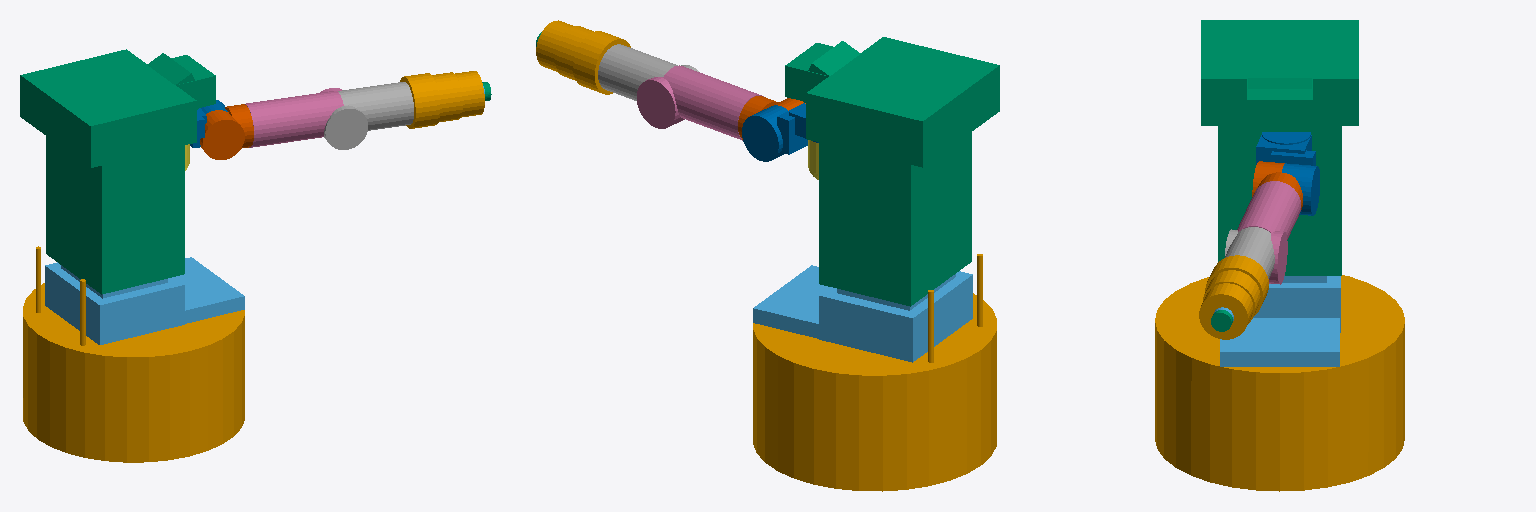
URDF robot description (TIAGo Steel):
<?xml version="1.0"?>
<robot name="TIAGo Steel" xmlns:xacro="http://ros.org/wiki/xacro">
  <link name="base_link">
    <visual>
      <origin xyz="0 0 0.06" rpy="3.1407962 0 0"/>
      <geometry>
        <cylinder radius="0.265" length="0.276"/>
      </geometry>
    </visual>
    <collision>
      <origin xyz="0 0 0.06" rpy="3.1407962 0 0"/>
      <geometry>
        <cylinder radius="0.265" length="0.276"/>
      </geometry>
    </collision>
    <visual>
      <origin xyz="-0.201 0.1062 0.28" rpy="3.1407962 0 0"/>
      <geometry>
        <cylinder radius="0.007" length="0.173"/>
      </geometry>
    </visual>
    <collision>
      <origin xyz="-0.201 0.1062 0.28" rpy="3.1407962 0 0"/>
      <geometry>
        <cylinder radius="0.007" length="0.173"/>
      </geometry>
    </collision>
    <visual>
      <origin xyz="-0.201 -0.1062 0.28" rpy="3.1407962 0 0"/>
      <geometry>
        <cylinder radius="0.007" length="0.173"/>
      </geometry>
    </visual>
    <collision>
      <origin xyz="-0.201 -0.1062 0.28" rpy="3.1407962 0 0"/>
      <geometry>
        <cylinder radius="0.007" length="0.173"/>
      </geometry>
    </collision>
  </link>
  <link name="Torso">
    <visual>
      <origin xyz="0 0 0.275" rpy="0 0 0"/>
      <geometry>
        <box size="0.18 0.2 0.55"/>
      </geometry>
    </visual>
    <collision>
      <origin xyz="0 0 0.275" rpy="0 0 0"/>
      <geometry>
        <box size="0.18 0.2 0.55"/>
      </geometry>
    </collision>
    <visual>
      <origin xyz="0.085 0 0.02" rpy="0 0 0"/>
      <geometry>
        <box size="0.4 0.254 0.04"/>
      </geometry>
    </visual>
    <collision>
      <origin xyz="0.085 0 0.02" rpy="0 0 0"/>
      <geometry>
        <box size="0.4 0.254 0.04"/>
      </geometry>
    </collision>
    <visual>
      <origin xyz="0.001 0 0.05" rpy="0 0 0"/>
      <geometry>
        <box size="0.233 0.26 0.12"/>
      </geometry>
    </visual>
    <collision>
      <origin xyz="0.001 0 0.05" rpy="0 0 0"/>
      <geometry>
        <box size="0.233 0.26 0.12"/>
      </geometry>
    </collision>
  </link>
  <joint name="base_link_Torso_joint" type="fixed">
    <parent link="base_link"/>
    <child link="Torso"/>
    <origin xyz="-0.054 0 0.193" rpy="0 0 0"/>
  </joint>
  <joint name="torso_lift_joint" type="prismatic">
    <parent link="Torso"/>
    <child link="torso_lift_link"/>
    <axis xyz="0 0 1"/>
    <origin xyz="0 0 0.6" rpy="0 0 0"/>
    <limit effort="2000" lower="0" upper="0.35" velocity="0.07"/>
  </joint>
  <link name="torso_lift_link">
    <visual>
      <origin xyz="0.164 0 -0.032" rpy="0 0 0"/>
      <geometry>
        <box size="0.15 0.138 0.074"/>
      </geometry>
    </visual>
    <collision>
      <origin xyz="0.164 0 -0.032" rpy="0 0 0"/>
      <geometry>
        <box size="0.15 0.138 0.074"/>
      </geometry>
    </collision>
    <visual>
      <origin xyz="0.1389 0 -0.0432" rpy="0 -0.43 0"/>
      <geometry>
        <box size="0.12 0.134 0.097"/>
      </geometry>
    </visual>
    <collision>
      <origin xyz="0.1389 0 -0.0432" rpy="0 -0.43 0"/>
      <geometry>
        <box size="0.12 0.134 0.097"/>
      </geometry>
    </collision>
    <visual>
      <origin xyz="-0.016 0 -0.05" rpy="0 0 0"/>
      <geometry>
        <box size="0.291 0.333 0.11"/>
      </geometry>
    </visual>
    <collision>
      <origin xyz="-0.016 0 -0.05" rpy="0 0 0"/>
      <geometry>
        <box size="0.291 0.333 0.11"/>
      </geometry>
    </collision>
    <visual>
      <origin xyz="0.003 0 -0.283" rpy="0 0 0"/>
      <geometry>
        <box size="0.228 0.263 0.358"/>
      </geometry>
    </visual>
    <collision>
      <origin xyz="0.003 0 -0.283" rpy="0 0 0"/>
      <geometry>
        <box size="0.228 0.263 0.358"/>
      </geometry>
    </collision>
  </link>
  <link name="TIAGo front arm_11367">
    <visual>
      <origin xyz="0.026 0.14 -0.232" rpy="0 0 1.5708"/>
      <geometry>
        <box size="0.042 0.094 0.094"/>
      </geometry>
    </visual>
    <collision>
      <origin xyz="0.026 0.14 -0.232" rpy="0 0 1.5708"/>
      <geometry>
        <box size="0.042 0.094 0.094"/>
      </geometry>
    </collision>
    <visual>
      <origin xyz="0.0256 0.1868 -0.2661" rpy="1.6887958e-05 -0.26184443 1.5707794"/>
      <geometry>
        <cylinder radius="0.053" length="0.016"/>
      </geometry>
    </visual>
    <collision>
      <origin xyz="0.0256 0.1868 -0.2661" rpy="1.6887958e-05 -0.26184443 1.5707794"/>
      <geometry>
        <cylinder radius="0.053" length="0.016"/>
      </geometry>
    </collision>
    <visual>
      <origin xyz="0.026 0.19 -0.221" rpy="-3.7000516e-06 0 0"/>
      <geometry>
        <cylinder radius="0.053" length="0.075"/>
      </geometry>
    </visual>
    <collision>
      <origin xyz="0.026 0.19 -0.221" rpy="-3.7000516e-06 0 0"/>
      <geometry>
        <cylinder radius="0.053" length="0.075"/>
      </geometry>
    </collision>
  </link>
  <joint name="torso_lift_link_TIAGo front arm_11367_joint" type="fixed">
    <parent link="torso_lift_link"/>
    <child link="TIAGo front arm_11367"/>
    <origin xyz="-0.037 0.0388 0.0224" rpy="0 0 -1.5708"/>
  </joint>
  <joint name="arm_1_joint" type="revolute">
    <parent link="TIAGo front arm_11367"/>
    <child link="arm_1_link"/>
    <axis xyz="0 0 1"/>
    <limit effort="43" lower="0.07" upper="2.68" velocity="1.95"/>
    <origin xyz="0.025 0.194 -0.16" rpy="0 0 0"/>
  </joint>
  <link name="arm_1_link">
    <visual>
      <origin xyz="0.0001 0 0.002" rpy="-3.141589 0 0"/>
      <geometry>
        <cylinder radius="0.0522" length="0.052"/>
      </geometry>
    </visual>
    <collision>
      <origin xyz="0.0001 0 0.002" rpy="-3.141589 0 0"/>
      <geometry>
        <cylinder radius="0.0522" length="0.052"/>
      </geometry>
    </collision>
    <visual>
      <origin xyz="0.0331 0.001 0.001" rpy="0 0 0"/>
      <geometry>
        <box size="0.08 0.1044 0.048"/>
      </geometry>
    </visual>
    <collision>
      <origin xyz="0.0331 0.001 0.001" rpy="0 0 0"/>
      <geometry>
        <box size="0.08 0.1044 0.048"/>
      </geometry>
    </collision>
    <visual>
      <origin xyz="0.0721 0.029 -0.023" rpy="0 0 0"/>
      <geometry>
        <box size="0.035 0.09 0.081"/>
      </geometry>
    </visual>
    <collision>
      <origin xyz="0.0721 0.029 -0.023" rpy="0 0 0"/>
      <geometry>
        <box size="0.035 0.09 0.081"/>
      </geometry>
    </collision>
    <visual>
      <origin xyz="0.1251 0.053 -0.042" rpy="1.5707963 0 0"/>
      <geometry>
        <cylinder radius="0.053" length="0.069"/>
      </geometry>
    </visual>
    <collision>
      <origin xyz="0.1251 0.053 -0.042" rpy="1.5707963 0 0"/>
      <geometry>
        <cylinder radius="0.053" length="0.069"/>
      </geometry>
    </collision>
  </link>
  <joint name="arm_2_joint" type="revolute">
    <parent link="arm_1_link"/>
    <child link="arm_2_link"/>
    <axis xyz="0 3.6732051e-06 1"/>
    <limit effort="43" lower="-1.5" upper="1.02" velocity="1.95"/>
    <origin xyz="0.1251 0.0195 -0.042" rpy="1.5708 0 0"/>
  </joint>
  <link name="arm_2_link">
    <visual>
      <origin xyz="0.056 5.5098077e-09 -0.0005" rpy="1.5707963 -2.7755576e-16 -1.5708"/>
      <geometry>
        <cylinder radius="0.052" length="0.048"/>
      </geometry>
    </visual>
    <collision>
      <origin xyz="0.056 5.5098077e-09 -0.0005" rpy="1.5707963 -2.7755576e-16 -1.5708"/>
      <geometry>
        <cylinder radius="0.052" length="0.048"/>
      </geometry>
    </collision>
    <visual>
      <origin xyz="0 5.5098077e-09 0.0295" rpy="-3.7000516e-06 0 0"/>
      <geometry>
        <cylinder radius="0.053" length="0.057"/>
      </geometry>
    </visual>
    <collision>
      <origin xyz="0 5.5098077e-09 0.0295" rpy="-3.7000516e-06 0 0"/>
      <geometry>
        <cylinder radius="0.053" length="0.057"/>
      </geometry>
    </collision>
  </link>
  <joint name="arm_3_joint" type="revolute">
    <parent link="arm_2_link"/>
    <child link="arm_3_link"/>
    <axis xyz="-7.801315e-05 -9.5201074e-05 1"/>
    <limit effort="26" lower="-3.46" upper="1.5" velocity="2.35"/>
    <origin xyz="0.0895 5.5098077e-09 -1.0118208e-14" rpy="-1.5708915 9.5201074e-05 1.5707183"/>
  </joint>
  <link name="arm_3_link">
    <visual>
      <origin xyz="-1.7943024e-07 -2.1896247e-07 -0.1037" rpy="-3.7000516e-06 0 0"/>
      <geometry>
        <cylinder radius="0.053" length="0.23"/>
      </geometry>
    </visual>
    <collision>
      <origin xyz="-1.7943024e-07 -2.1896247e-07 -0.1037" rpy="-3.7000516e-06 0 0"/>
      <geometry>
        <cylinder radius="0.053" length="0.23"/>
      </geometry>
    </collision>
    <visual>
      <origin xyz="-0.01690018 0.029999781 -0.2187" rpy="1.5707963 0 0"/>
      <geometry>
        <cylinder radius="0.056" length="0.056"/>
      </geometry>
    </visual>
    <collision>
      <origin xyz="-0.01690018 0.029999781 -0.2187" rpy="1.5707963 0 0"/>
      <geometry>
        <cylinder radius="0.056" length="0.056"/>
      </geometry>
    </collision>
  </link>
  <joint name="arm_4_joint" type="revolute">
    <parent link="arm_3_link"/>
    <child link="arm_4_link"/>
    <axis xyz="2.8276386e-06 -2.8276306e-06 1"/>
    <limit effort="26" lower="-0.32" upper="2.29" velocity="2.35"/>
    <origin xyz="-0.02000018 -0.027000219 -0.2197" rpy="2.356193 -1.5707923 2.356193"/>
  </joint>
  <link name="arm_4_link">
    <visual>
      <origin xyz="0 0.001 -0.002" rpy="-3.141589 0 0"/>
      <geometry>
        <cylinder radius="0.054" length="0.056"/>
      </geometry>
    </visual>
    <collision>
      <origin xyz="0 0.001 -0.002" rpy="-3.141589 0 0"/>
      <geometry>
        <cylinder radius="0.054" length="0.056"/>
      </geometry>
    </collision>
    <visual>
      <origin xyz="-0.093 0.019 0.027" rpy="1.5707963 -2.7755576e-16 -1.5708"/>
      <geometry>
        <cylinder radius="0.052" length="0.191"/>
      </geometry>
    </visual>
    <collision>
      <origin xyz="-0.093 0.019 0.027" rpy="1.5707963 -2.7755576e-16 -1.5708"/>
      <geometry>
        <cylinder radius="0.052" length="0.191"/>
      </geometry>
    </collision>
  </link>
  <joint name="arm_5_joint" type="revolute">
    <parent link="arm_4_link"/>
    <child link="arm_5_link"/>
    <axis xyz="3.6732051e-06 0 1"/>
    <limit effort="3" lower="-2.07" upper="2.07" velocity="1.95"/>
    <origin xyz="-0.162 0.02 0.027" rpy="3.1415927 -1.5707927 3.1415927"/>
  </joint>
  <link name="arm_5_link">
    <visual>
      <origin xyz="0 0 0.04" rpy="3.1407962 0 0"/>
      <geometry>
        <cylinder radius="0.063" length="0.062"/>
      </geometry>
    </visual>
    <collision>
      <origin xyz="0 0 0.04" rpy="3.1407962 0 0"/>
      <geometry>
        <cylinder radius="0.063" length="0.062"/>
      </geometry>
    </collision>
    <visual>
      <origin xyz="0 0 0.099" rpy="3.1407962 0 0"/>
      <geometry>
        <cylinder radius="0.057" length="0.06"/>
      </geometry>
    </visual>
    <collision>
      <origin xyz="0 0 0.099" rpy="3.1407962 0 0"/>
      <geometry>
        <cylinder radius="0.057" length="0.06"/>
      </geometry>
    </collision>
    <visual>
      <origin xyz="0 0 0.156" rpy="3.1407962 0 0"/>
      <geometry>
        <cylinder radius="0.053" length="0.06"/>
      </geometry>
    </visual>
    <collision>
      <origin xyz="0 0 0.156" rpy="3.1407962 0 0"/>
      <geometry>
        <cylinder radius="0.053" length="0.06"/>
      </geometry>
    </collision>
  </link>
  <joint name="arm_6_joint" type="revolute">
    <parent link="arm_5_link"/>
    <child link="arm_6_link"/>
    <axis xyz="2.8276386e-06 -2.8276306e-06 1"/>
    <limit effort="6.6" lower="-1.39" upper="1.39" velocity="1.76"/>
    <origin xyz="0 0 0.15" rpy="2.356193 -1.5707923 2.356193"/>
  </joint>
  <link name="arm_6_link">
    <visual>
      <origin xyz="0.0409 0 0" rpy="1.5707963 -2.7755576e-16 -1.5708"/>
      <geometry>
        <cylinder radius="0.0226" length="0.013"/>
      </geometry>
    </visual>
    <collision>
      <origin xyz="0.0409 0 0" rpy="1.5707963 -2.7755576e-16 -1.5708"/>
      <geometry>
        <cylinder radius="0.0226" length="0.013"/>
      </geometry>
    </collision>
  </link>
  <joint name="arm_7_joint" type="revolute">
    <parent link="arm_6_link"/>
    <child link="arm_7_link"/>
    <axis xyz="-2.8276306e-06 2.8276386e-06 1"/>
    <limit effort="6.6" lower="-2.07" upper="2.07" velocity="1.76"/>
    <origin xyz="0 0 0" rpy="1.5707991 -2.8276386e-06 1.5707991"/>
  </joint>
  <link name="arm_7_link">
    <visual>
      <origin xyz="-1.5551969e-07 1.5552013e-07 0.055" rpy="-3.141589 0 0"/>
      <geometry>
        <cylinder radius="0.0225" length="0.0157"/>
      </geometry>
    </visual>
    <collision>
      <origin xyz="-1.5551969e-07 1.5552013e-07 0.055" rpy="-3.141589 0 0"/>
      <geometry>
        <cylinder radius="0.0225" length="0.0157"/>
      </geometry>
    </collision>
  </link>
</robot>

--- Facts derived from the render (not from the file) ---
3 views of the same robot in one strip: view 1: azimuth 30°, elevation 25°; view 2: azimuth 150°, elevation 25°; view 3: azimuth 270°, elevation 25° (orthographic).
Robot: TIAGo Steel — 11 links, 10 joints (7 revolute, 1 prismatic, 2 fixed); root link base_link; default pose: all joints at 0 but 1 set to mid-range because 0 is outside their limits (arm_1_joint = 1.38).
Visible links, largest first — view 1: torso_lift_link, base_link, Torso, arm_4_link, arm_3_link, arm_5_link, arm_2_link; view 2: torso_lift_link, base_link, Torso, arm_3_link, arm_5_link, arm_1_link, arm_4_link, arm_2_link; view 3: base_link, torso_lift_link, Torso, arm_5_link, arm_3_link, arm_1_link, arm_4_link, arm_2_link.
Link boxes in pixels (left/top/right/bottom): torso_lift_link: left=20, top=49, right=215, bottom=294; base_link: left=23, top=246, right=244, bottom=462; Torso: left=45, top=257, right=244, bottom=344; arm_4_link: left=324, top=82, right=413, bottom=149; arm_3_link: left=245, top=88, right=343, bottom=147; arm_5_link: left=400, top=71, right=484, bottom=128; arm_2_link: left=200, top=104, right=253, bottom=159; torso_lift_link: left=785, top=37, right=999, bottom=306; base_link: left=753, top=254, right=996, bottom=491; Torso: left=753, top=265, right=972, bottom=362; arm_3_link: left=637, top=65, right=763, bottom=140; arm_5_link: left=536, top=20, right=630, bottom=94; arm_1_link: left=742, top=103, right=818, bottom=161; arm_4_link: left=598, top=44, right=698, bottom=100; arm_2_link: left=738, top=96, right=805, bottom=139; base_link: left=1155, top=275, right=1404, bottom=491; torso_lift_link: left=1201, top=20, right=1358, bottom=275; Torso: left=1220, top=276, right=1340, bottom=366; arm_5_link: left=1199, top=255, right=1268, bottom=339; arm_3_link: left=1237, top=181, right=1300, bottom=284; arm_1_link: left=1256, top=132, right=1319, bottom=215; arm_4_link: left=1225, top=227, right=1274, bottom=278; arm_2_link: left=1252, top=161, right=1302, bottom=209.
Size in the robot's own frame: 1.17 by 0.5302 by 0.8971 metres.
Geometry: primitives only (box / cylinder / sphere), no mesh files.